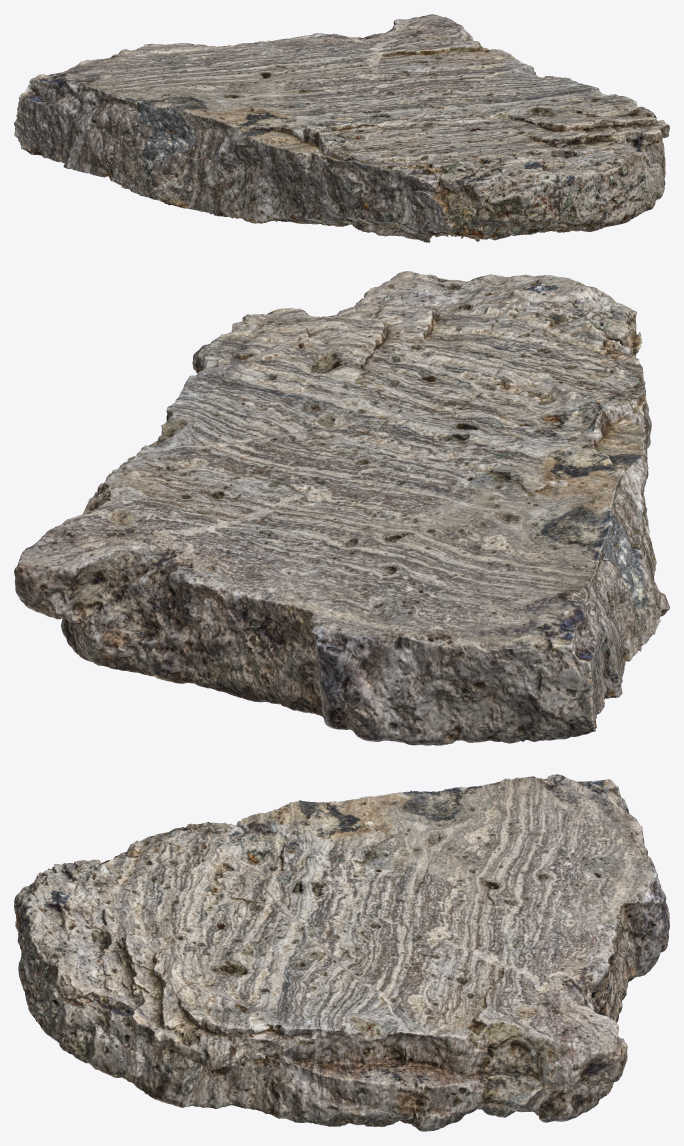
The model's file is sample-09.glb.
The picture shows the model from 3 angles, top to bottom: view 1: azimuth 30°, elevation 25°; view 2: azimuth 150°, elevation 25°; view 3: azimuth 270°, elevation 25°; orthographic projection. The views are drawn at different scales.
Size of the model in its own units: 1.08 by 0.3026 by 1.14.
Materials: 1 (1 with a texture image).
